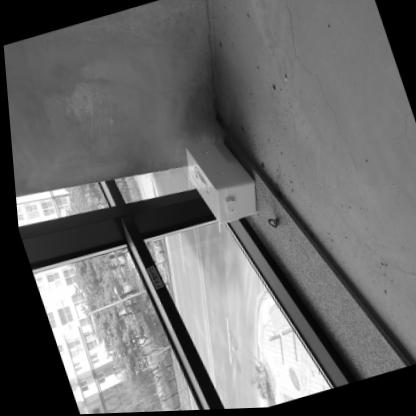DDL: (174, 131, 264, 233)
